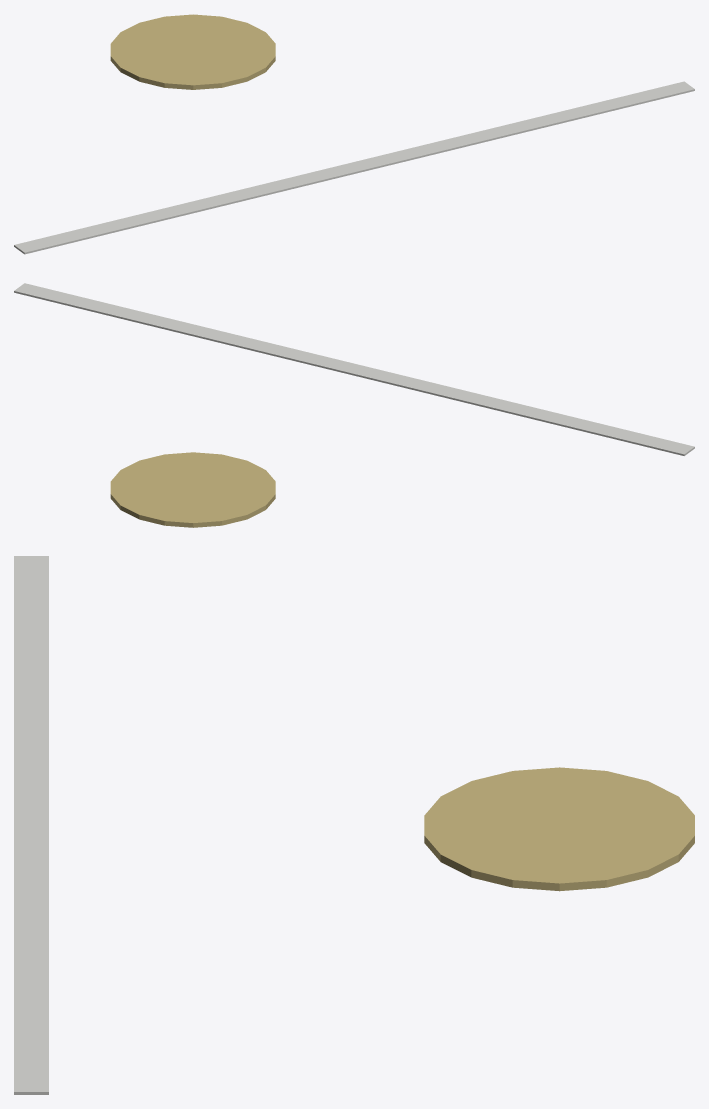
File: 268_L117_TestpointBank1.glb
3 renders of one model, top to bottom at view 1: azimuth 30°, elevation 25°; view 2: azimuth 150°, elevation 25°; view 3: azimuth 270°, elevation 25°, orthographic. The views are drawn at different scales.
Visible parts, largest first — view 1: 000_Gold_ENIG__PSMAT__Gold_ENIG, 001_Silkscreen_White__PSMAT__Silkscreen_White; view 2: 000_Gold_ENIG__PSMAT__Gold_ENIG, 001_Silkscreen_White__PSMAT__Silkscreen_White; view 3: 000_Gold_ENIG__PSMAT__Gold_ENIG, 001_Silkscreen_White__PSMAT__Silkscreen_White.
Part boxes in pixels (x1,y1,x2,y2): 000_Gold_ENIG__PSMAT__Gold_ENIG: (110,14,275,89); 001_Silkscreen_White__PSMAT__Silkscreen_White: (14,81,694,254); 000_Gold_ENIG__PSMAT__Gold_ENIG: (110,452,275,527); 001_Silkscreen_White__PSMAT__Silkscreen_White: (14,283,694,455); 000_Gold_ENIG__PSMAT__Gold_ENIG: (424,767,694,891); 001_Silkscreen_White__PSMAT__Silkscreen_White: (14,556,48,1094).
Bounding box in the file's own units: 0.012 × 9.5e-05 × 0.00645.
